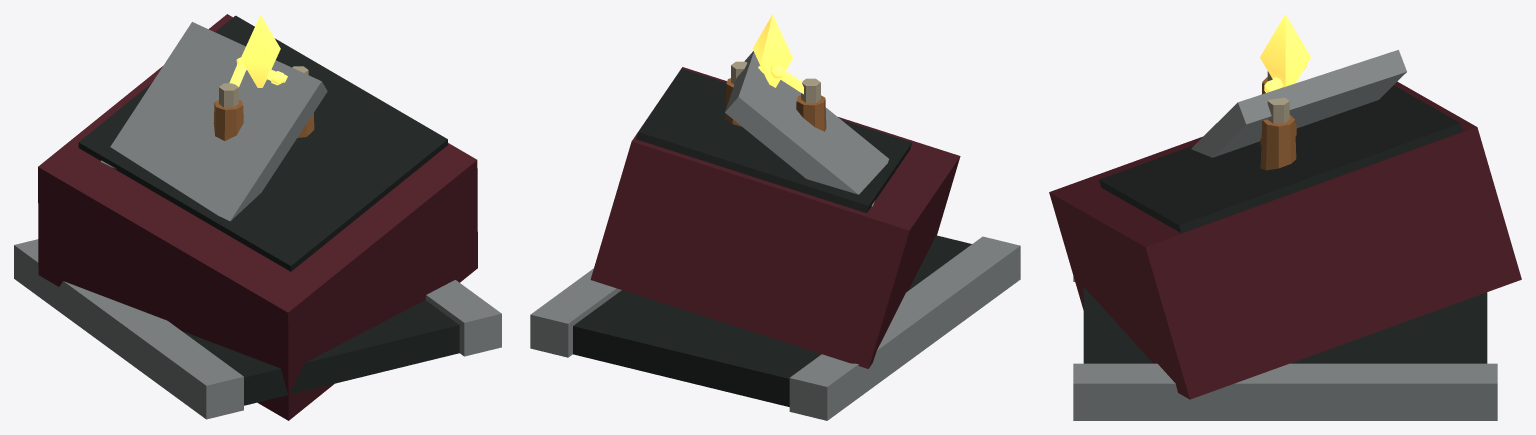
Rendered from ally_husk_wreck.glb.
3 views of the same model, side by side, from view 1: azimuth 30°, elevation 25°; view 2: azimuth 150°, elevation 25°; view 3: azimuth 270°, elevation 25° (orthographic). The views are drawn at different scales.
Visible parts, largest first — view 1: WreckMesh; view 2: WreckMesh; view 3: WreckMesh.
Boxes of the visible parts, box(x1,y1,x2,y2) form: WreckMesh: box(14, 14, 501, 420); WreckMesh: box(530, 14, 1020, 420); WreckMesh: box(1049, 14, 1521, 420).
Bounding box in the file's own units: 1.32 × 1.17 × 1.38.
